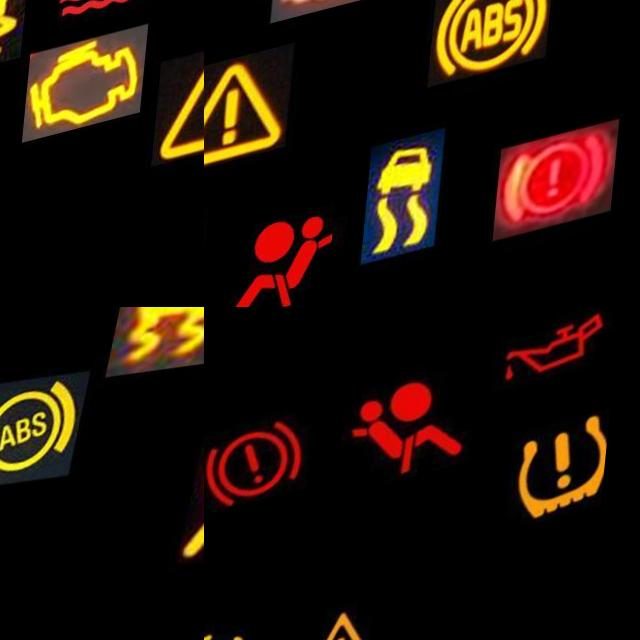Central Warning lamp: (204, 55, 301, 185), (161, 52, 204, 181)
Engine cooling system: (47, 0, 174, 50), (276, 0, 398, 35)
